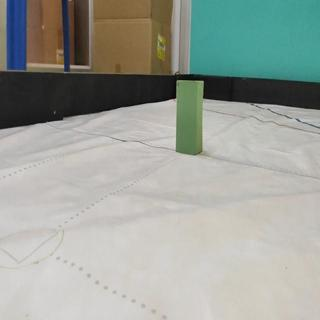greenbox: (177, 79, 204, 155)
